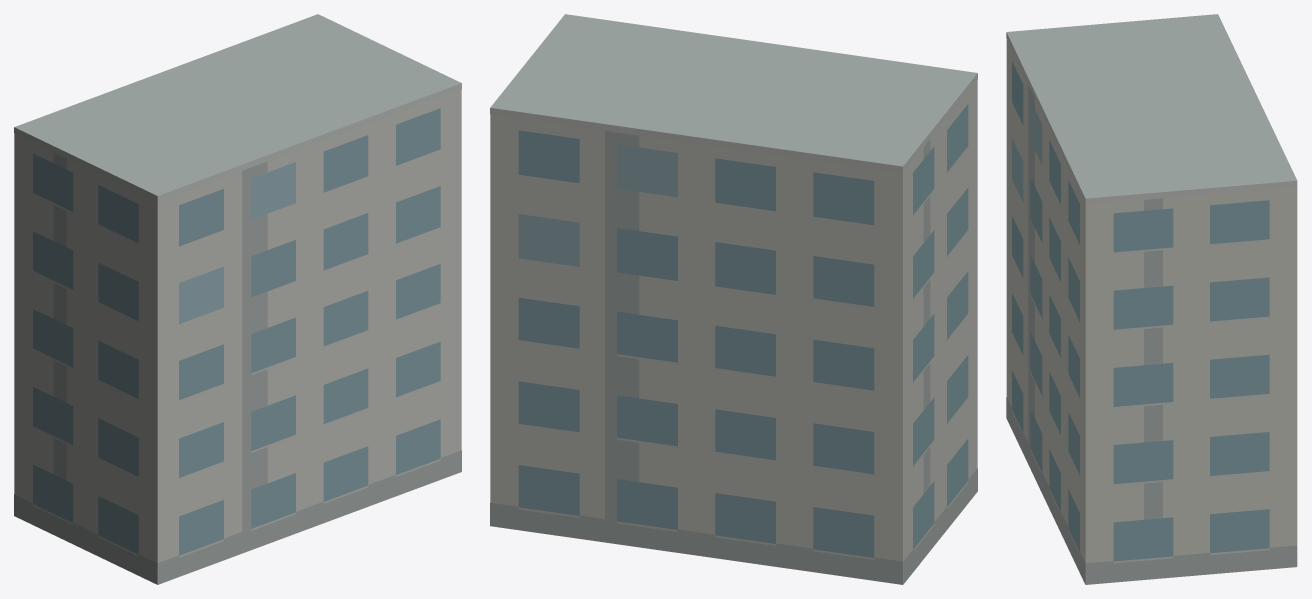
Rendered from residential-95d135b4-8f30-4885-b41f-44eb84a62124.glb.
The picture shows the model from 3 angles, left to right: view 1: azimuth 30°, elevation 25°; view 2: azimuth 150°, elevation 25°; view 3: azimuth 270°, elevation 25°; orthographic projection. The views are drawn at different scales.
Parts seen in each view (by area): view 1: residential-95d135b4-8f30-4885-b41f-44eb84a62124.tmp; view 2: residential-95d135b4-8f30-4885-b41f-44eb84a62124.tmp; view 3: residential-95d135b4-8f30-4885-b41f-44eb84a62124.tmp.
Boxes of the visible parts, box(x1,y1,x2,y2) form: residential-95d135b4-8f30-4885-b41f-44eb84a62124.tmp: box(14, 14, 461, 584); residential-95d135b4-8f30-4885-b41f-44eb84a62124.tmp: box(490, 14, 977, 584); residential-95d135b4-8f30-4885-b41f-44eb84a62124.tmp: box(1006, 14, 1297, 584).
Size of the model in its own units: 15.64 by 15.25 by 10.42.
